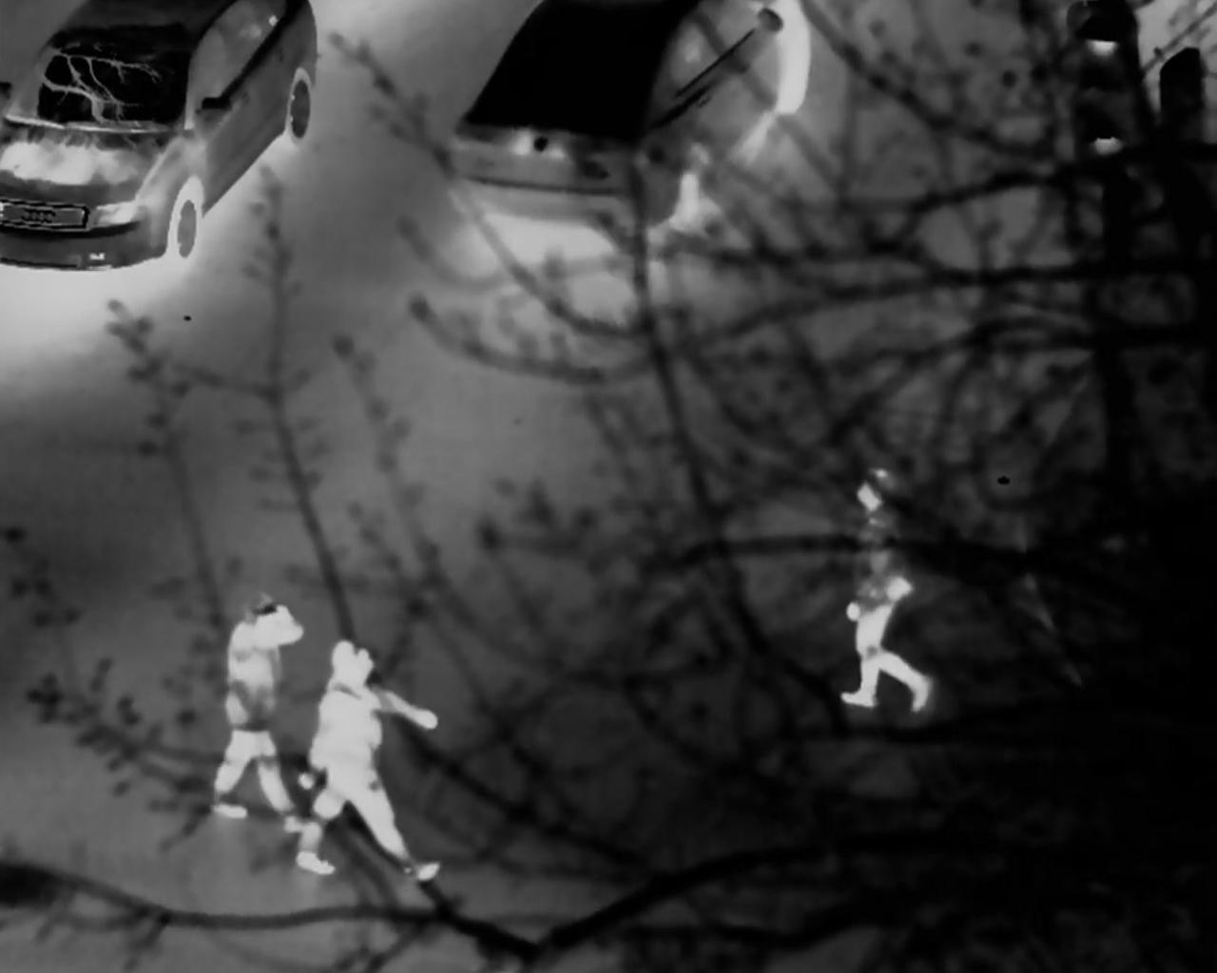person: (307, 645, 442, 895), (834, 463, 939, 719), (222, 599, 303, 827)
